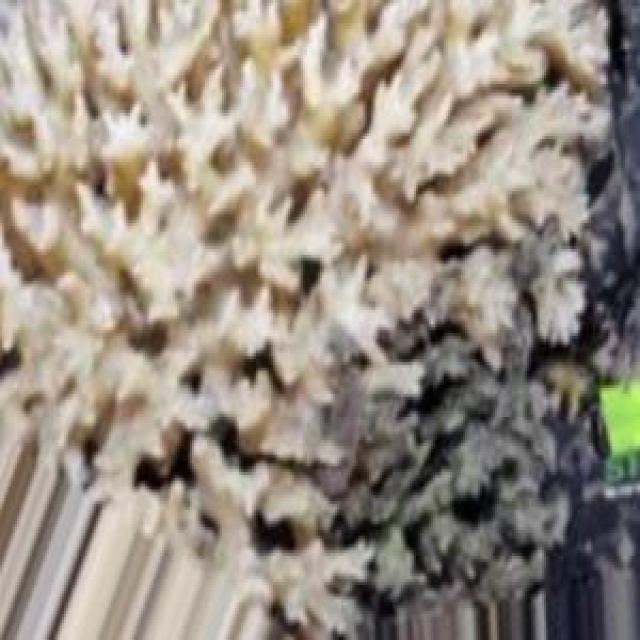Bleached: (2, 4, 611, 637)
